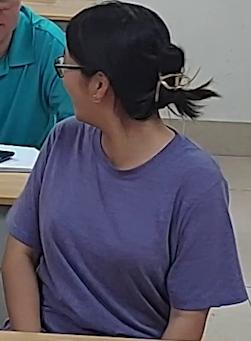Turning_Around: (10, 4, 240, 330)
